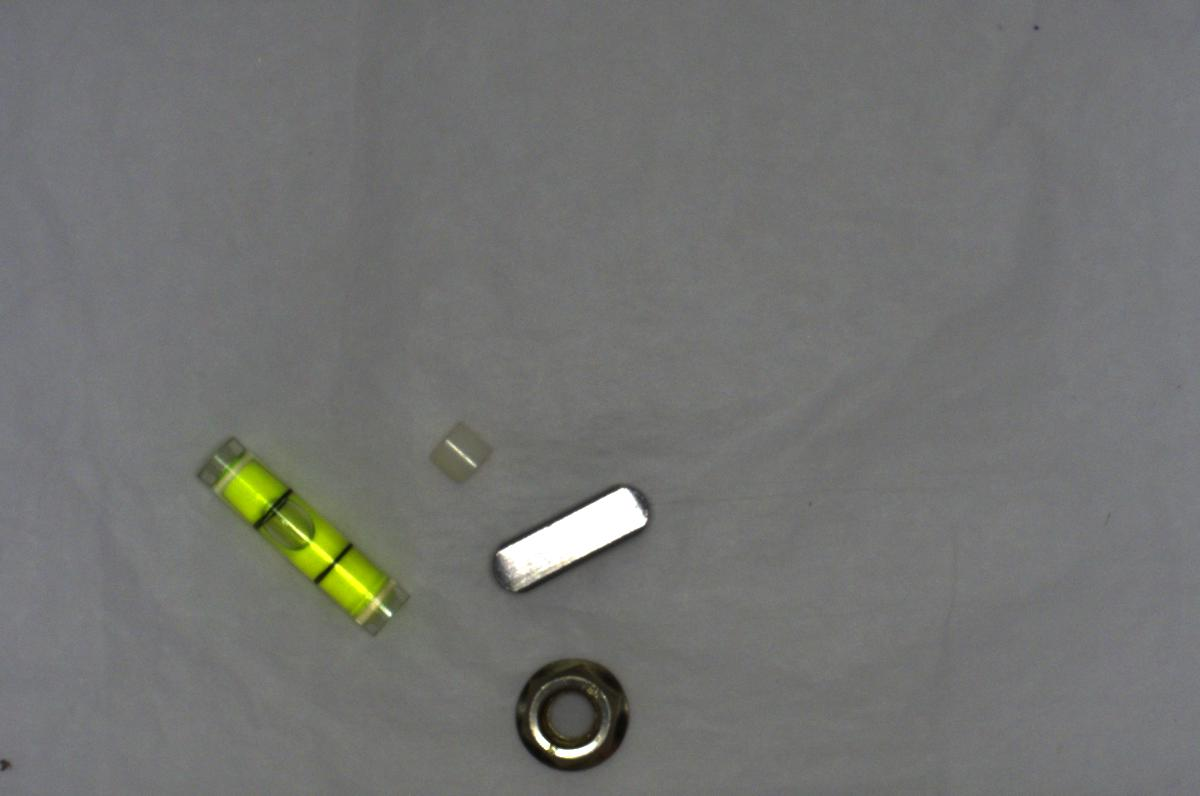Flange nut: (505, 645, 645, 776)
Horizontal bubble: (188, 439, 411, 639)
Keybar: (491, 476, 658, 594)
Plastic cushion pillar: (418, 412, 494, 486)
